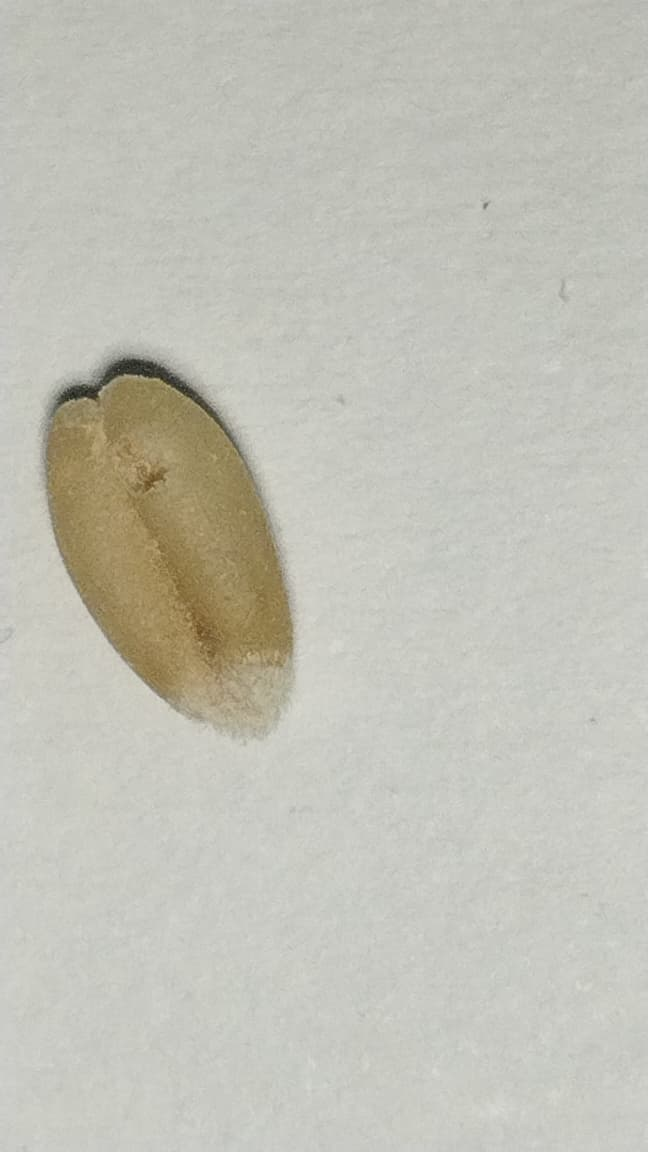damage: (47, 376, 300, 746)
